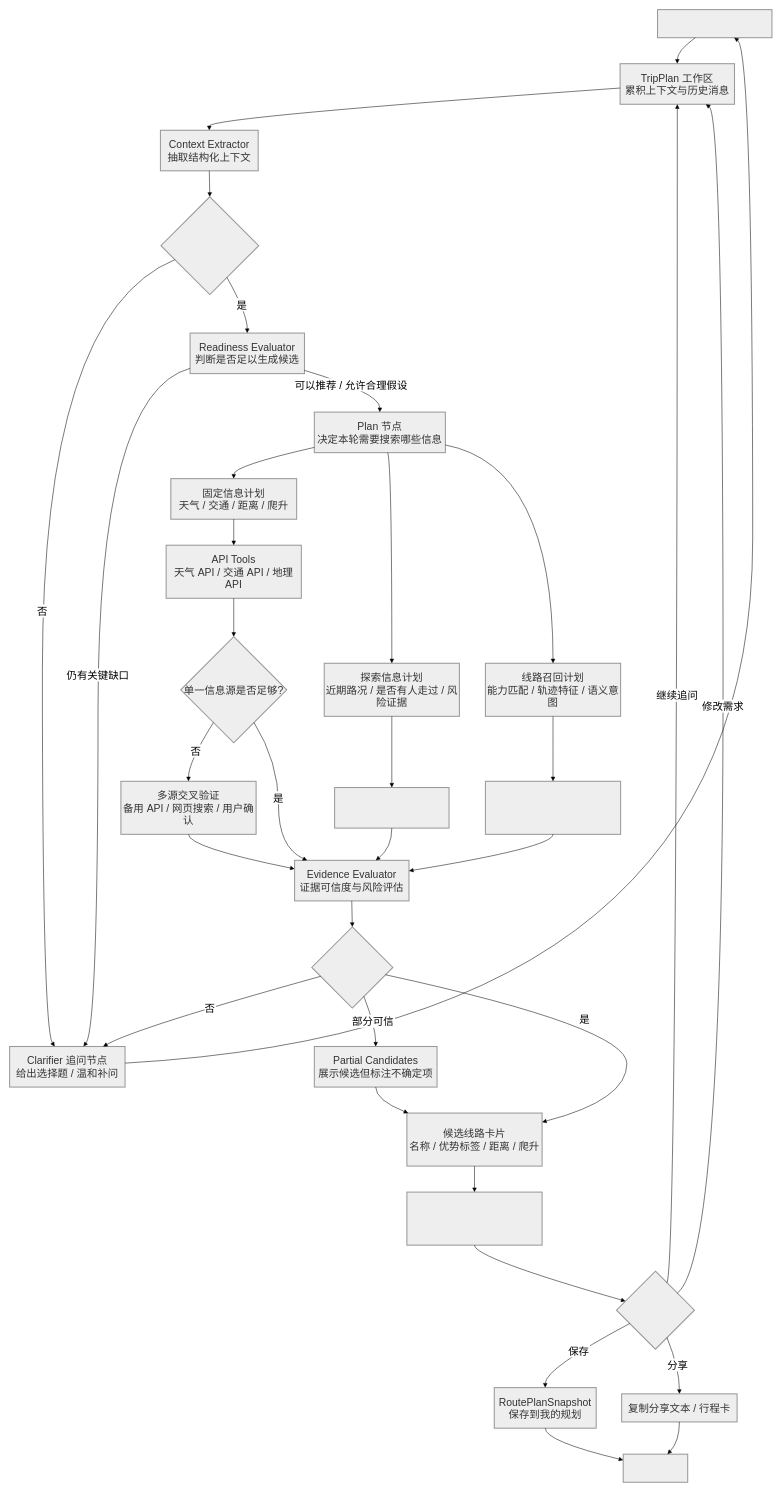
Image size: 781x1491. Some labels were removed from this diagram. Here are the shapes that lost their labels. From the top down, the centre of each, then its label:
At pixel 714 23: "用户输入自然语言需求".
At pixel 209 245: "是否达到推荐阈值?".
At pixel 391 807: "Bounded ReAct Search 外部搜索与证据收集".
At pixel 553 808: "Hybrid Route Retrieval 硬约束 + 能力匹配 + 轨迹特征 + 向量语义".
At pixel 352 967: "候选是否可信?".
At pixel 474 1218: "线路详情方案 适配原因 / 风险 / 交通 / 预算 / 证据浮层".
At pixel 655 1309: "用户后续行为".
At pixel 655 1468: "本轮完成".
